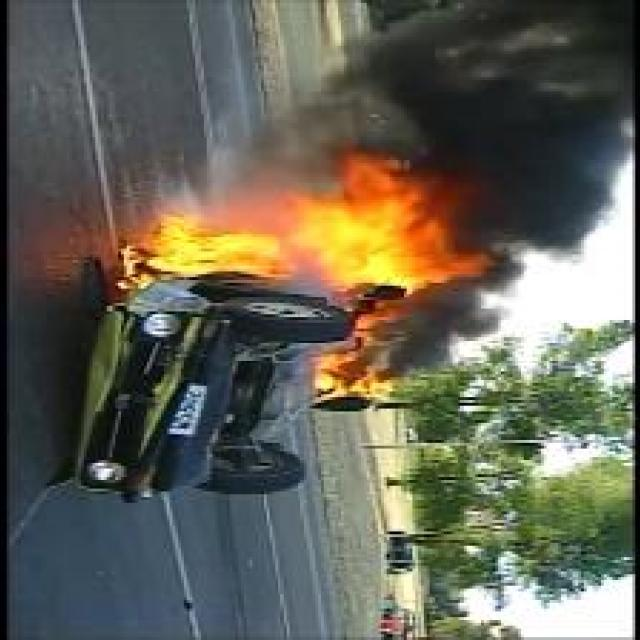Fire: (114, 157, 486, 306), (308, 312, 402, 406)
